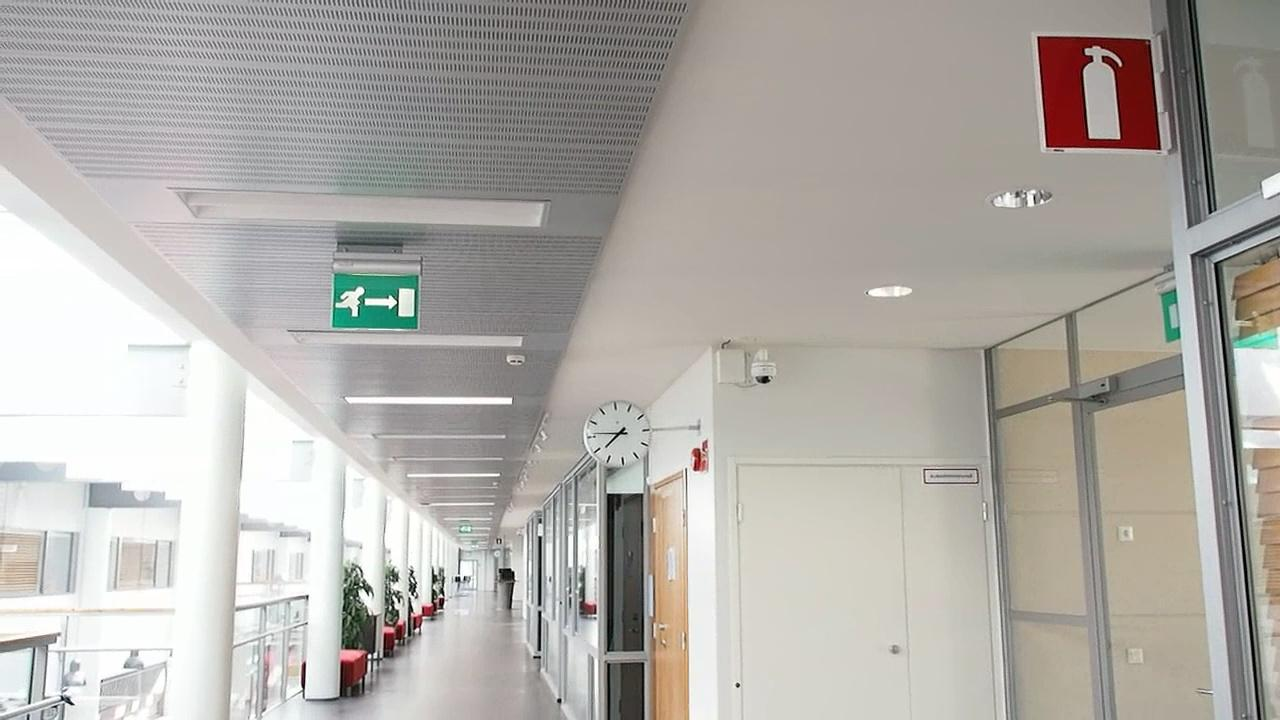clock: (581, 402, 654, 474)
exit: (322, 269, 421, 335)
fireextinguisher: (1046, 33, 1161, 149)
